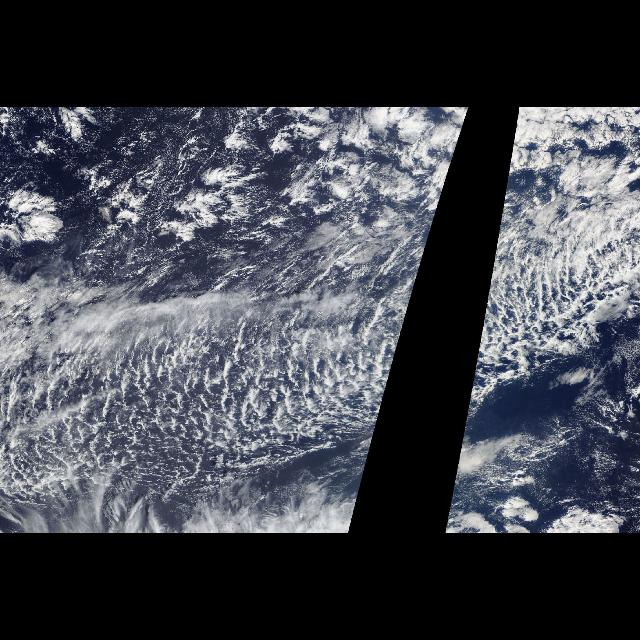Fish: (0, 252, 426, 484), (452, 252, 632, 484)
